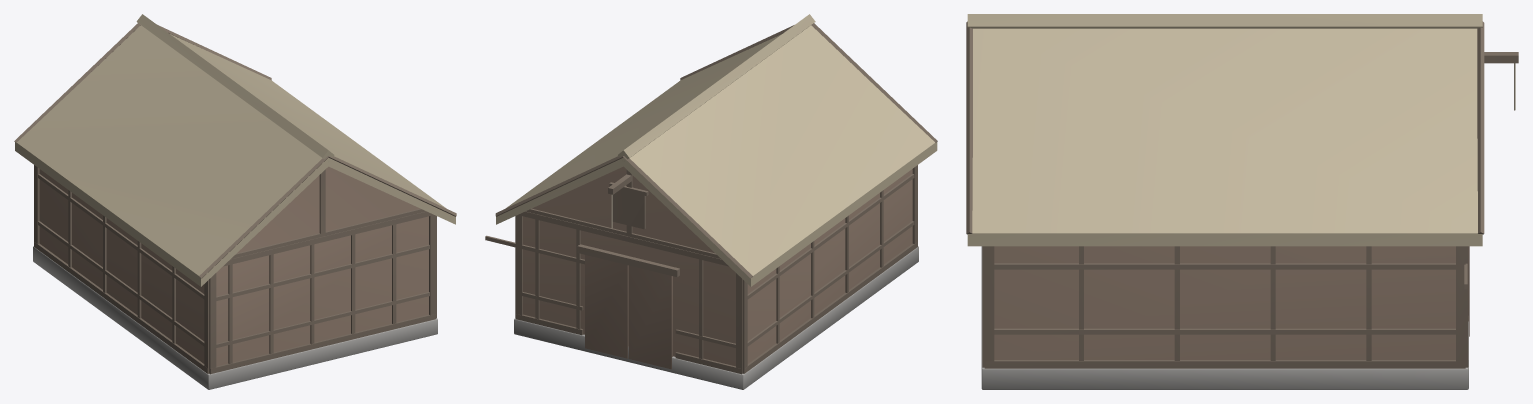
The model's file is barn.gltf.
The picture shows the model from 3 angles, left to right: view 1: azimuth 30°, elevation 25°; view 2: azimuth 150°, elevation 25°; view 3: azimuth 270°, elevation 25°; orthographic projection. The views are drawn at different scales.
Parts seen in each view (by area): view 1: Body; view 2: Body; view 3: Body.
Part boxes in pixels (left/top/right/bottom): Body: left=14, top=14, right=456, bottom=389; Body: left=485, top=14, right=937, bottom=389; Body: left=966, top=14, right=1518, bottom=389.
Size of the model in its own units: 10.9 by 8.26 by 13.84.
